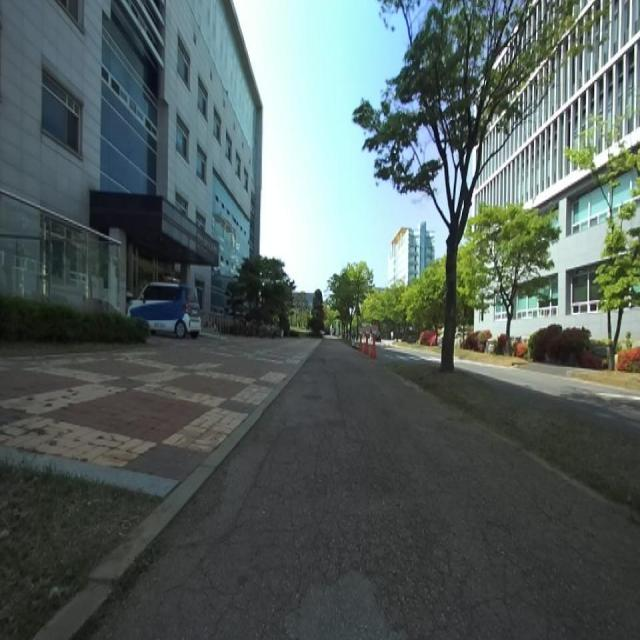sidewalk: (36, 340, 640, 639), (0, 336, 318, 639)
